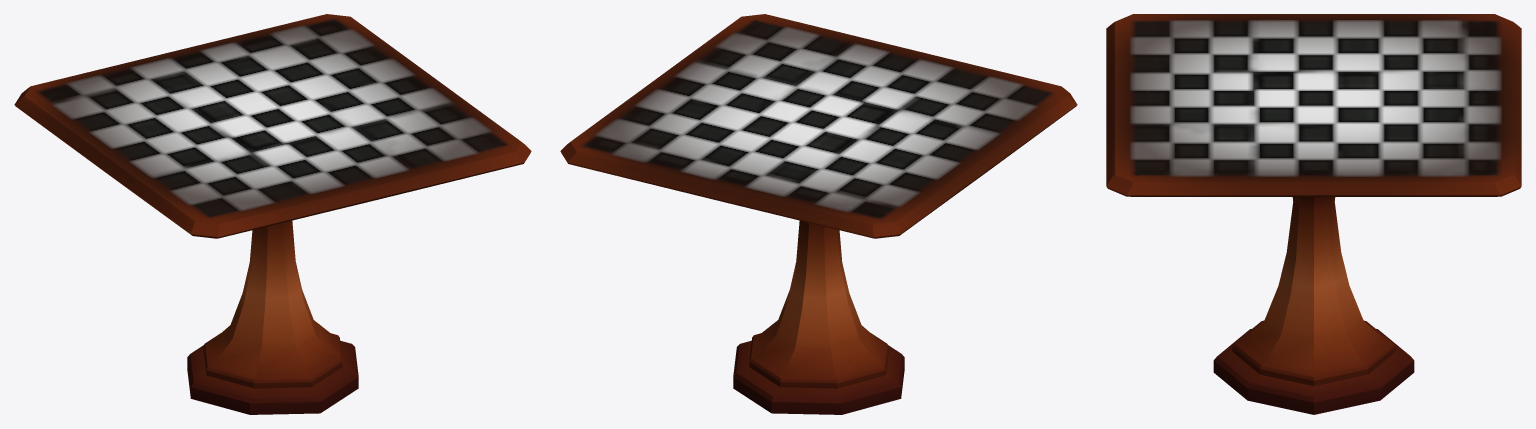
File: chess_table.glb
The picture shows the model from 3 angles, left to right: view 1: azimuth 30°, elevation 25°; view 2: azimuth 150°, elevation 25°; view 3: azimuth 270°, elevation 25°; orthographic projection. The views are drawn at different scales.
Parts seen in each view (by area): view 1: Object_3; view 2: Object_3; view 3: Object_3.
Boxes of the visible parts, x1,y1,x2,y2 form: Object_3: (14, 14, 531, 414); Object_3: (560, 14, 1077, 414); Object_3: (1106, 14, 1521, 414).
Size of the model in its own units: 32.52 by 23.71 by 32.52.
1 material, 1 textured.
